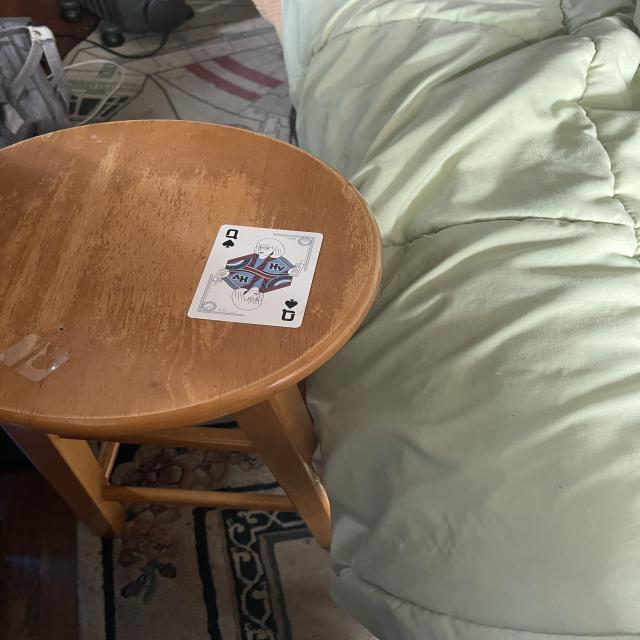Queen of spades: (188, 225, 323, 327)
